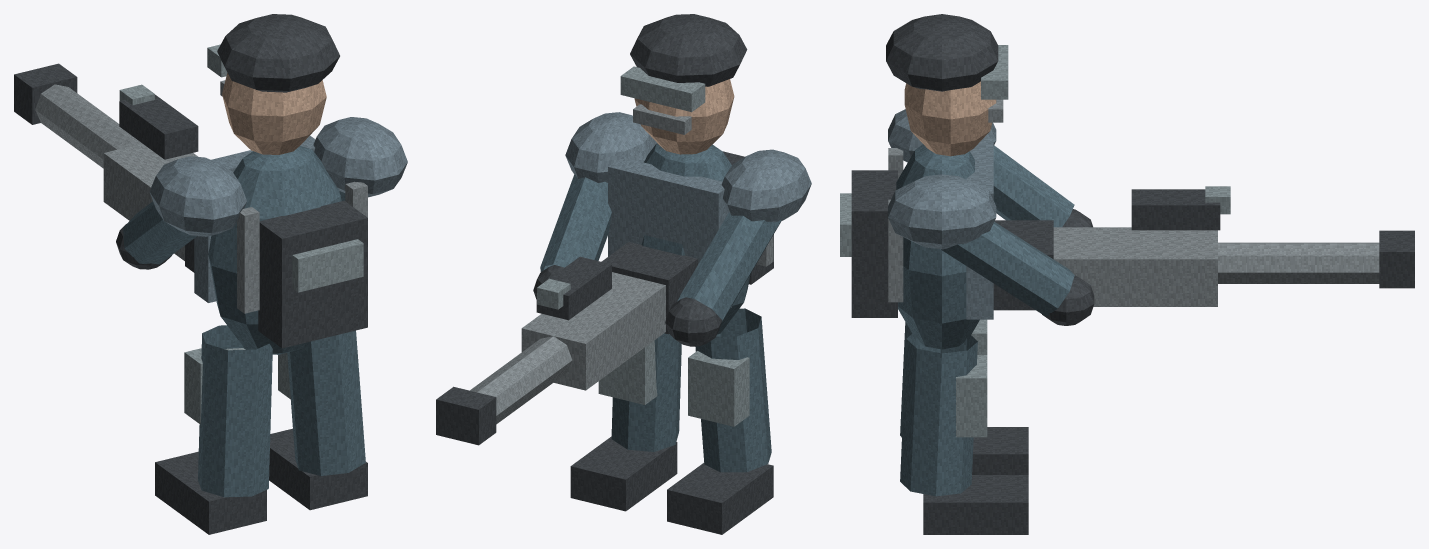
File: character.glb
3 views of the same model, side by side, from view 1: azimuth 30°, elevation 25°; view 2: azimuth 150°, elevation 25°; view 3: azimuth 270°, elevation 25° (orthographic). The views are drawn at different scales.
Size of the model in its own units: 1.28 by 2.48 by 2.73.
6 materials, 6 textured.
